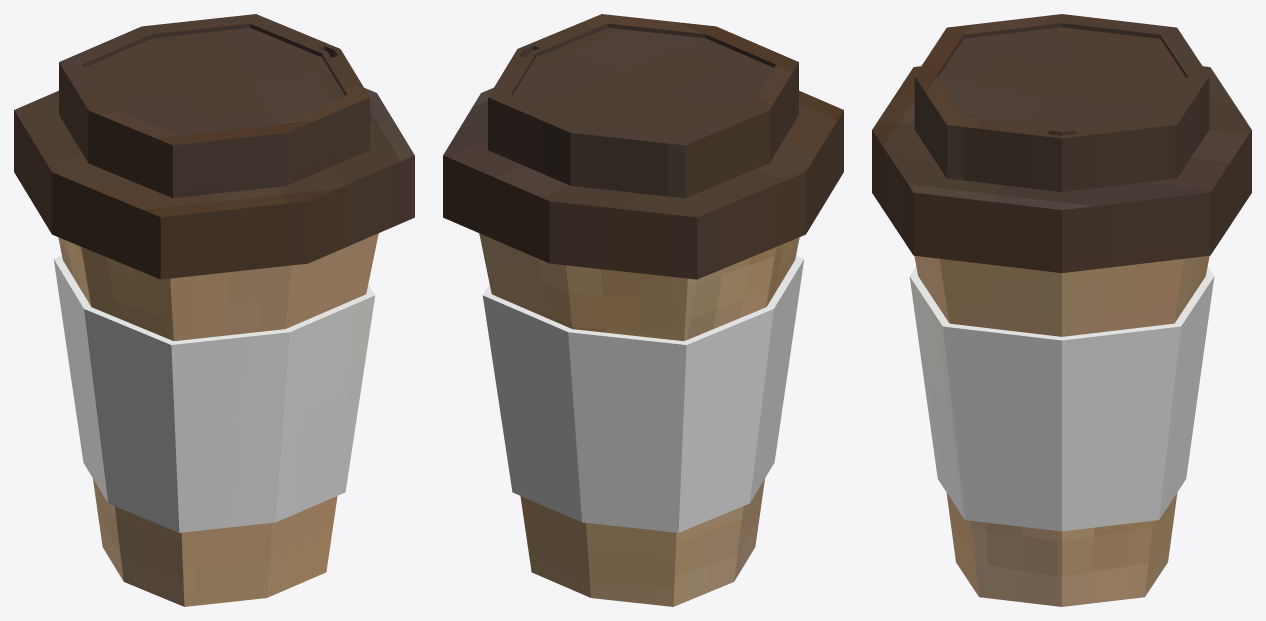
The model's file is CHAHIN_COFFEE_CUP.obj.
The picture shows the model from 3 angles, left to right: view 1: azimuth 30°, elevation 25°; view 2: azimuth 150°, elevation 25°; view 3: azimuth 270°, elevation 25°; orthographic projection.
Visible parts, largest first — view 1: Cube_Cube.022; view 2: Cube_Cube.022; view 3: Cube_Cube.022.
Part boxes in pixels (x1=…): Cube_Cube.022: x1=14, y1=14, x2=414, y2=606; Cube_Cube.022: x1=443, y1=14, x2=843, y2=606; Cube_Cube.022: x1=872, y1=14, x2=1251, y2=606.
Size of the model in its own units: 0.6813 by 0.9619 by 0.6813.
Materials: 1 (1 with a texture image).
